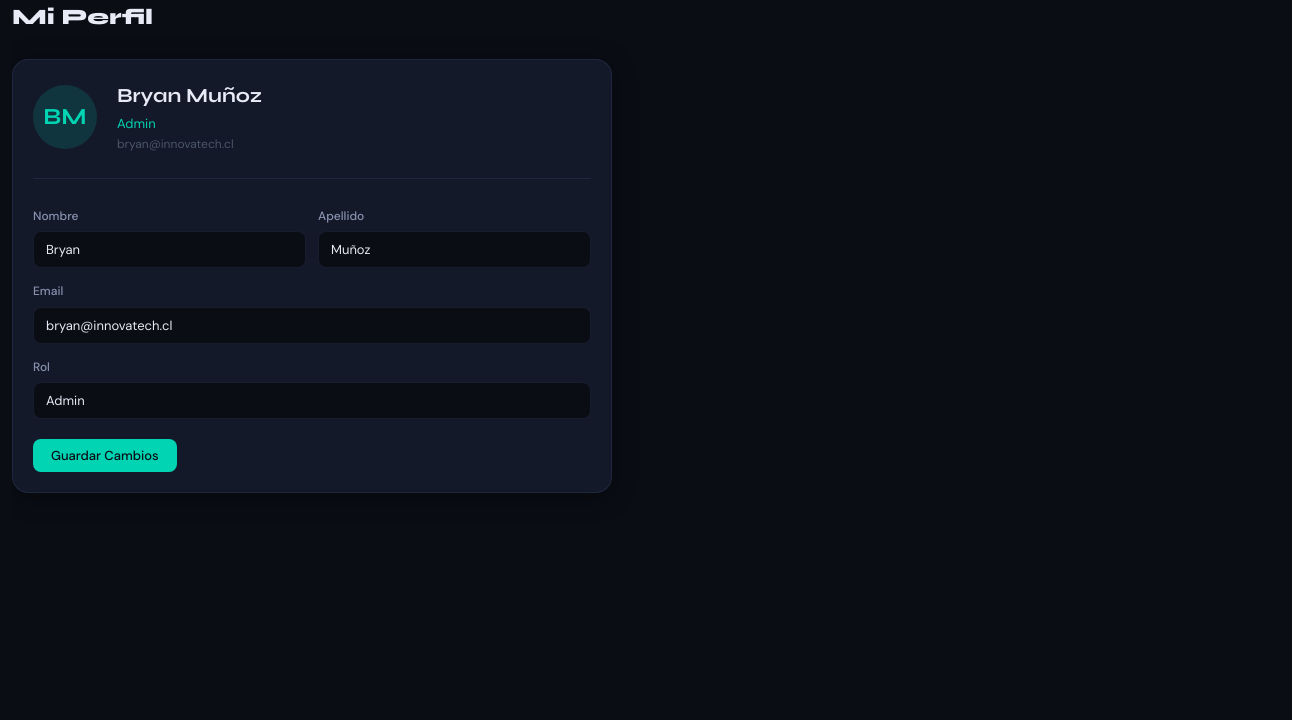
Test: PerfilPage › renderiza y permite editar y guardar el perfil
Expected: the heading "Mi Perfil" is shown, [12, 4, 153, 30]
Replace the text in the field showing "Bryan" below "Nombre" with "Nuevo Nombre": (170, 250) [33, 231, 306, 268]
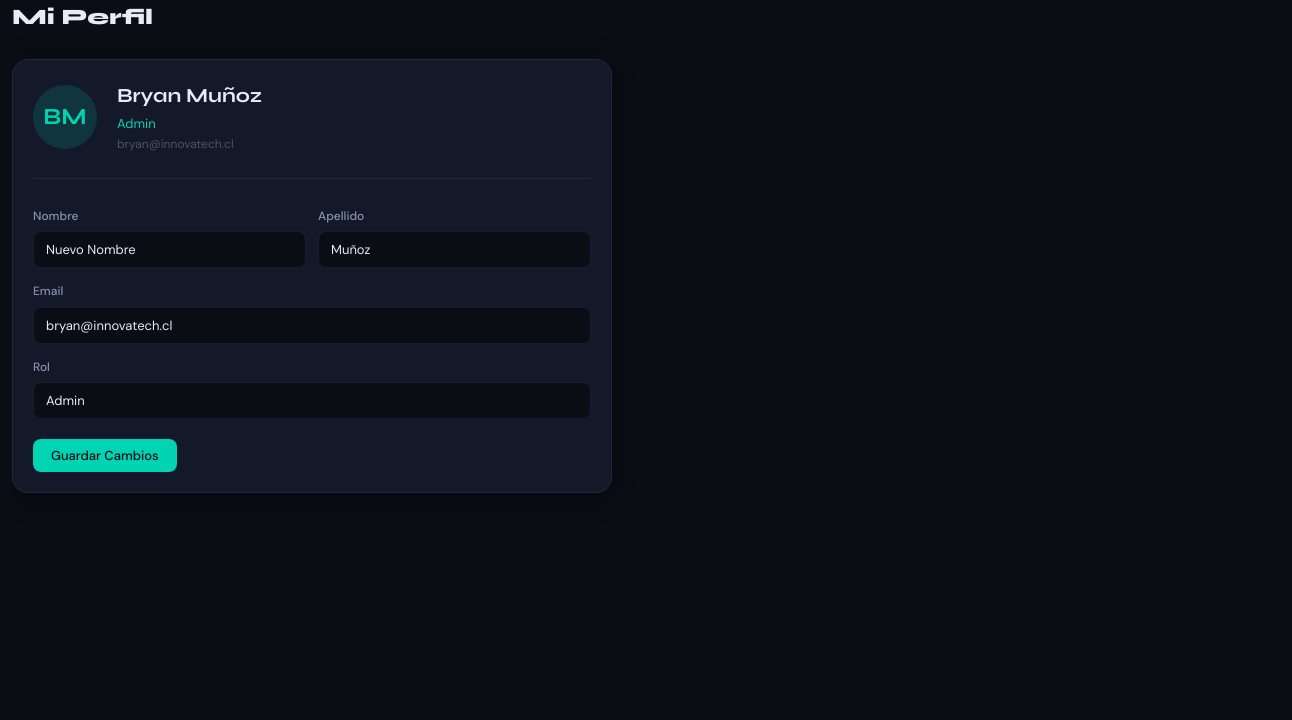
Click the button "Guardar Cambios": (105, 455) [33, 439, 177, 472]
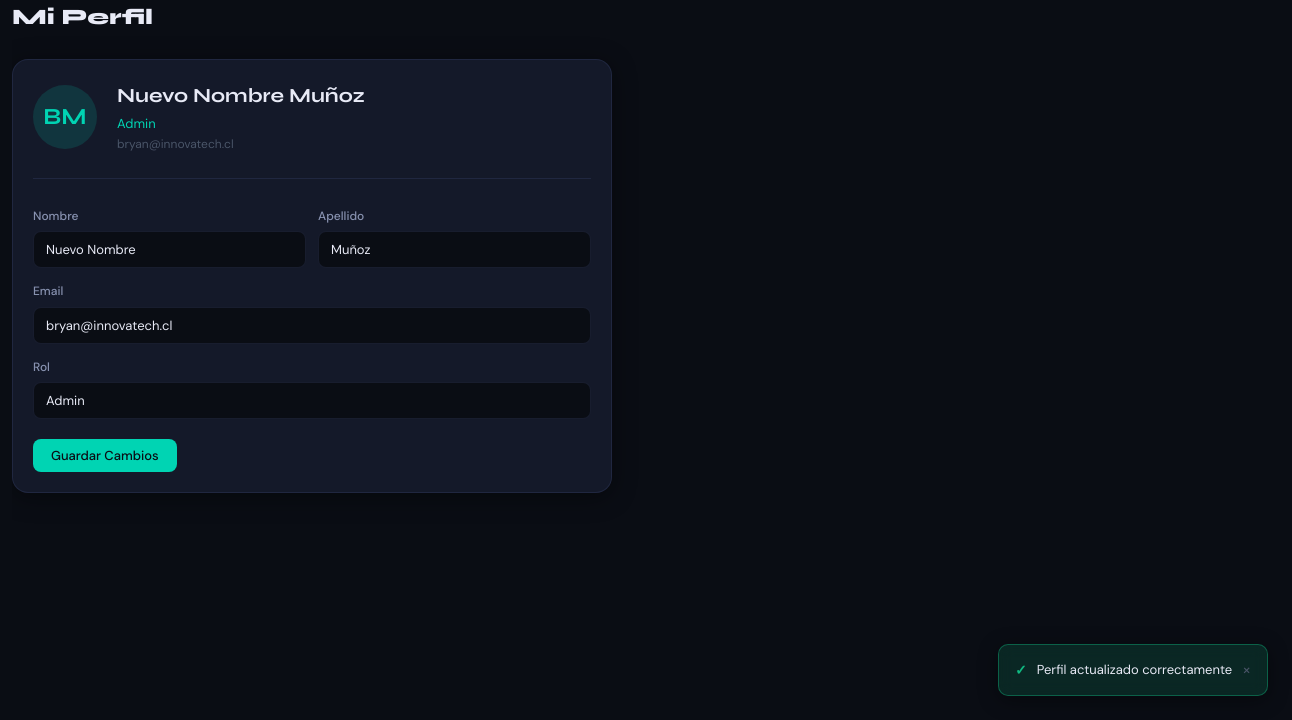
Expected: the text "Nuevo Nombre" is shown, [117, 83, 284, 108]
